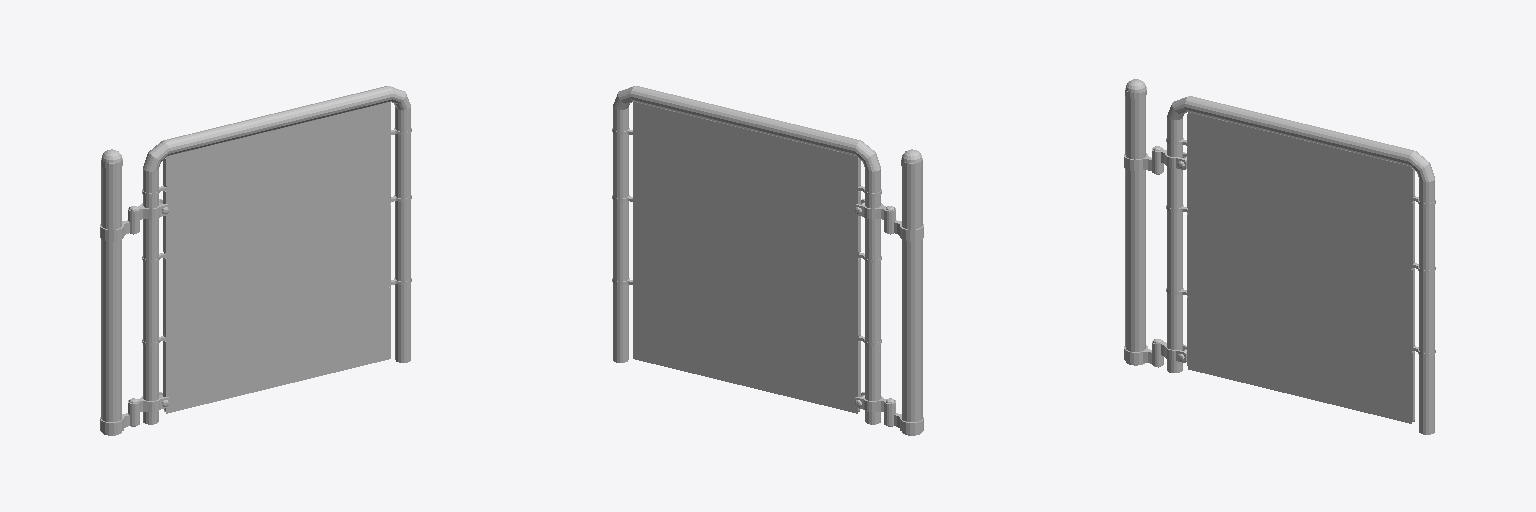
Rendered from Fence 2.0.obj.
3 renders of one model, left to right at view 1: azimuth 30°, elevation 25°; view 2: azimuth 150°, elevation 25°; view 3: azimuth 330°, elevation 25°, orthographic.
Parts seen in each view (by area): view 1: Plane.000_Plane.002; view 2: Plane.000_Plane.002; view 3: Plane.000_Plane.002.
Boxes of the visible parts, box(x1,y1,x2,y2) form: Plane.000_Plane.002: box(100, 86, 411, 435); Plane.000_Plane.002: box(612, 86, 923, 435); Plane.000_Plane.002: box(1124, 79, 1435, 434).
Bounding box in the file's own units: 11.93 × 10.35 × 0.8094.